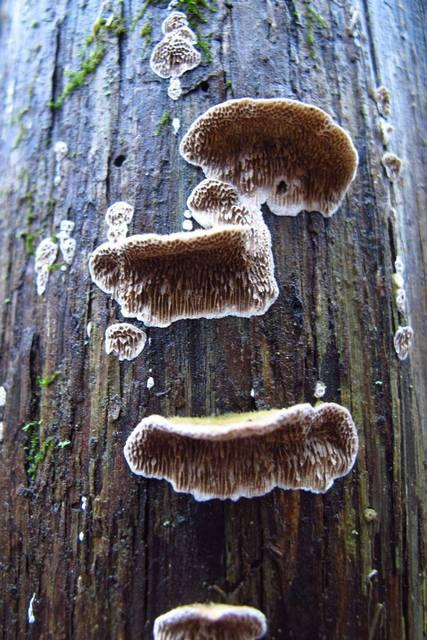Non-edible Mushroom: (87, 95, 359, 328), (122, 400, 359, 502), (151, 601, 268, 639)
